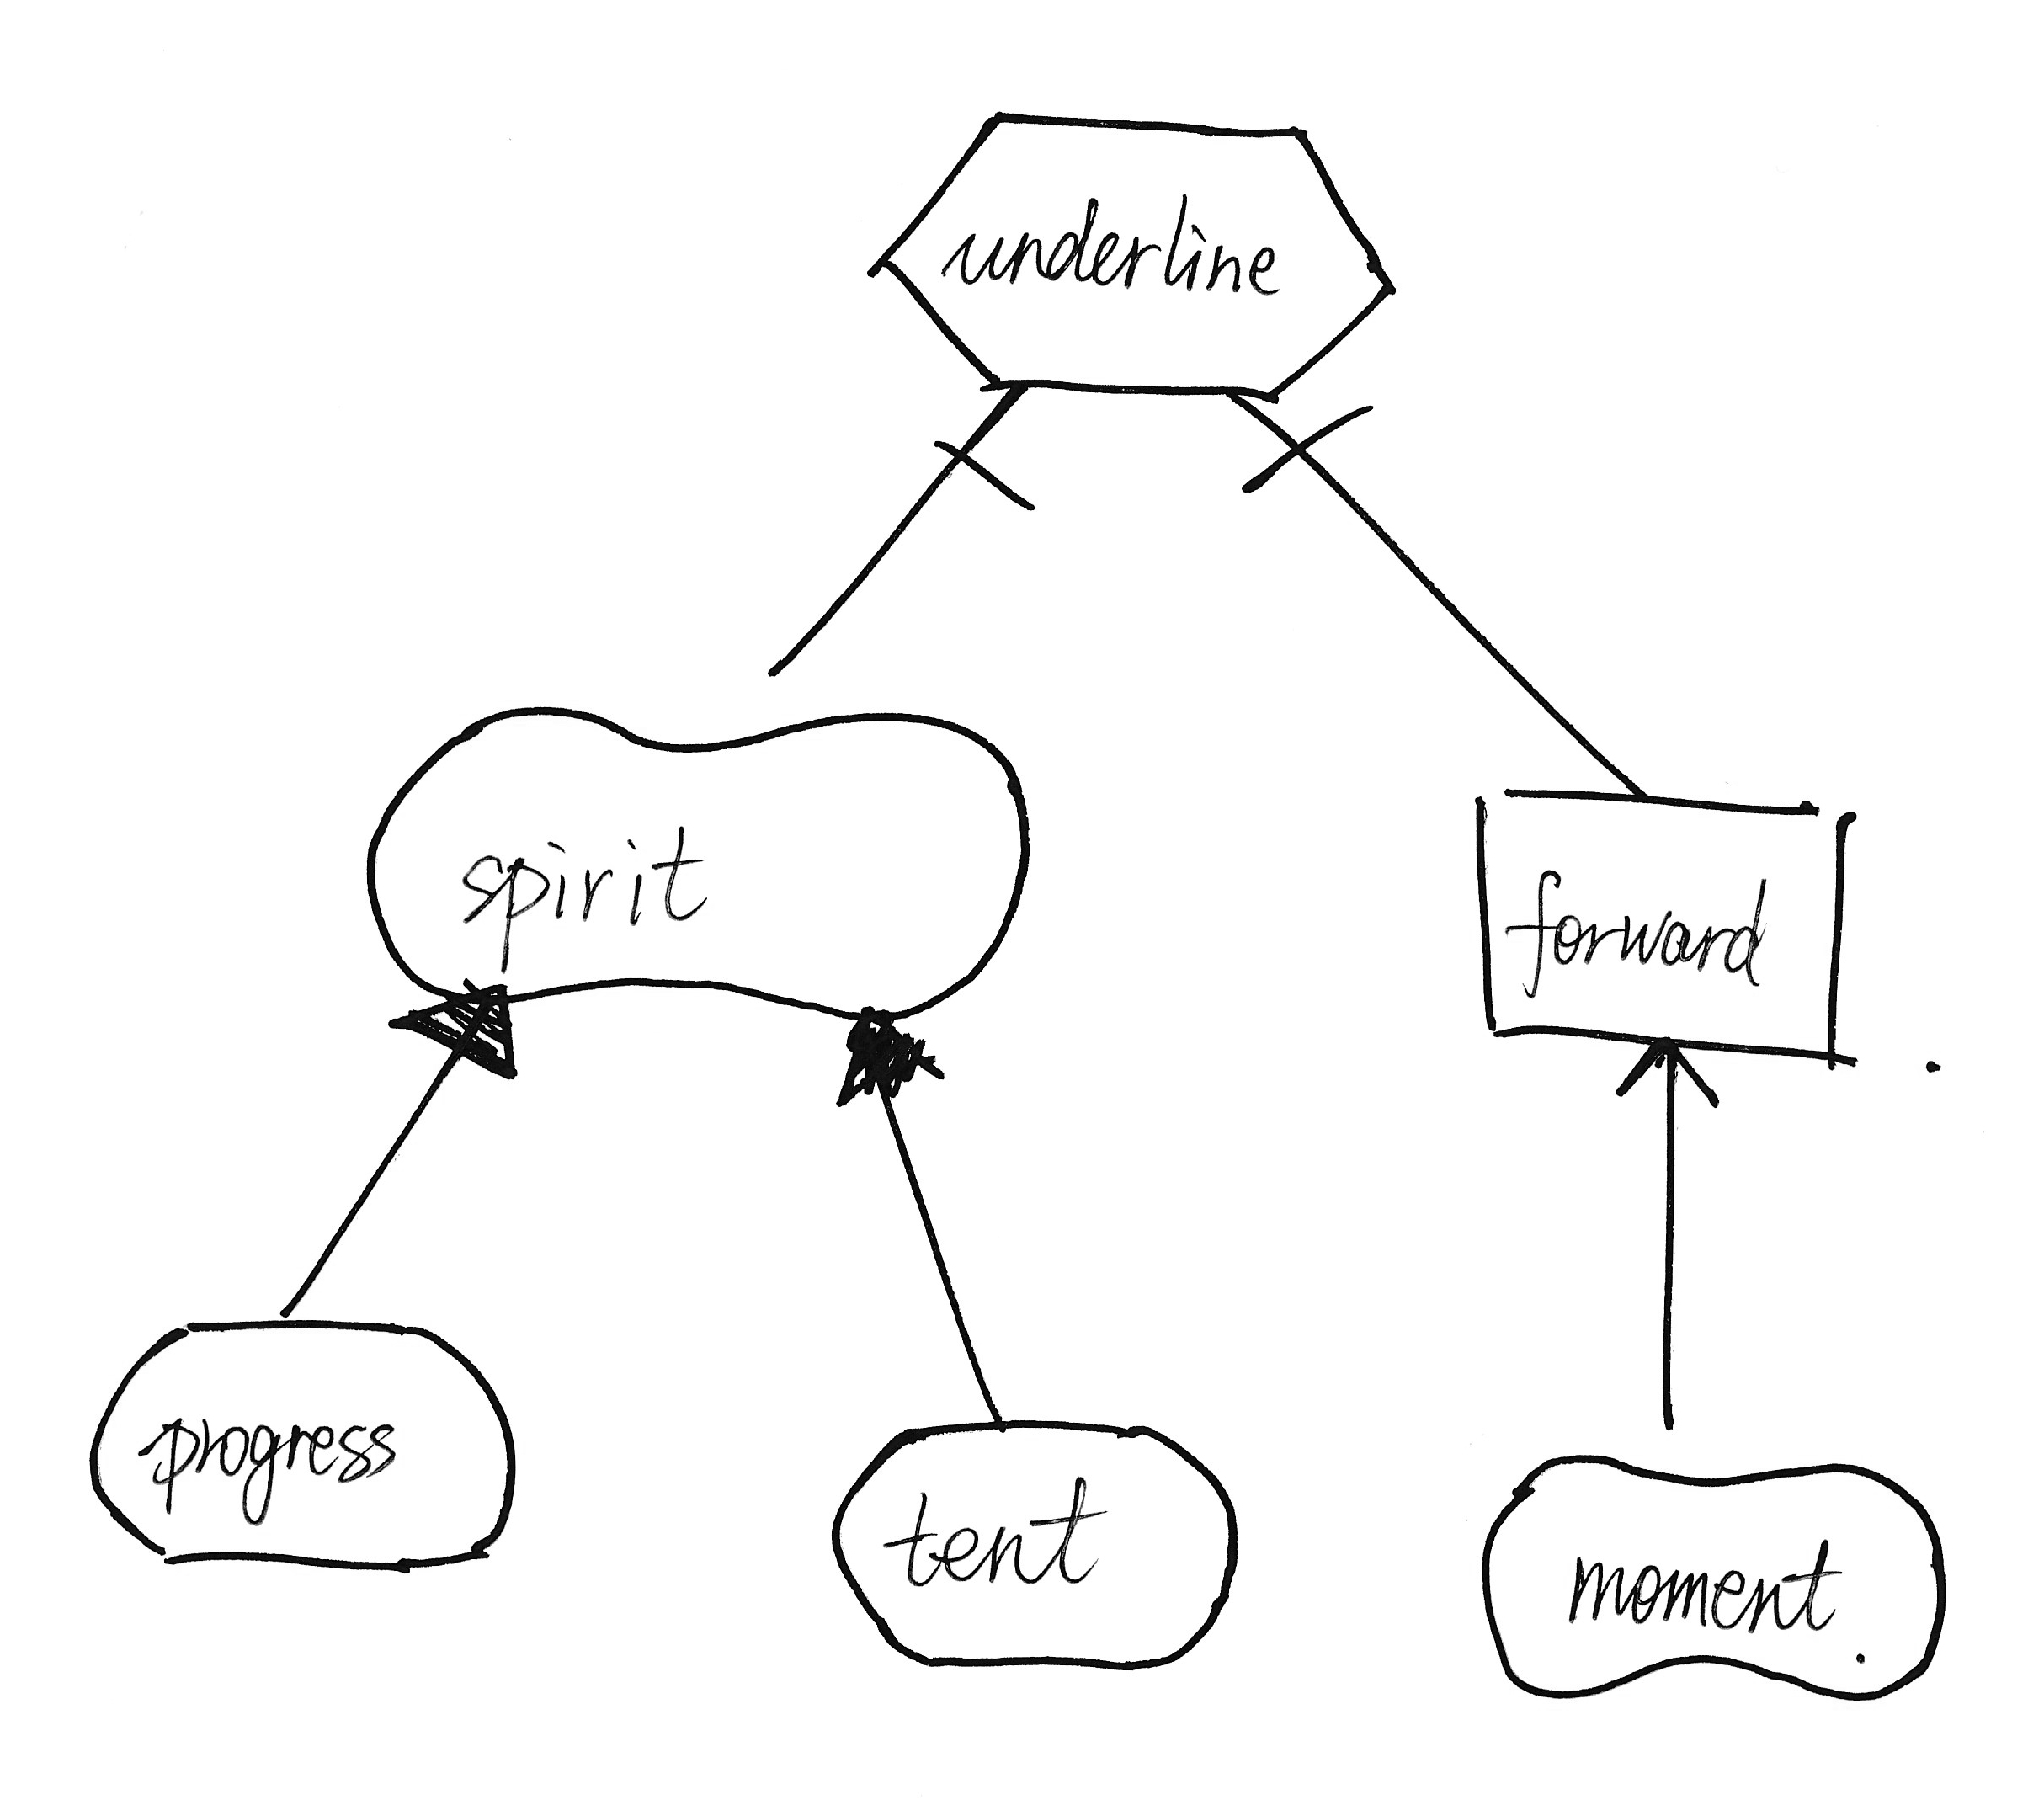and: (910, 385, 1056, 537), (1220, 390, 1391, 512)
arrow: (1594, 1037, 1748, 1124)
goal: (75, 1298, 533, 1589), (809, 1403, 1260, 1685)
or: (800, 997, 974, 1120), (382, 969, 540, 1094)
quality: (354, 686, 1052, 1038), (1464, 1430, 1959, 1730)
resource: (1443, 763, 1889, 1101)
task: (833, 92, 1415, 411)
